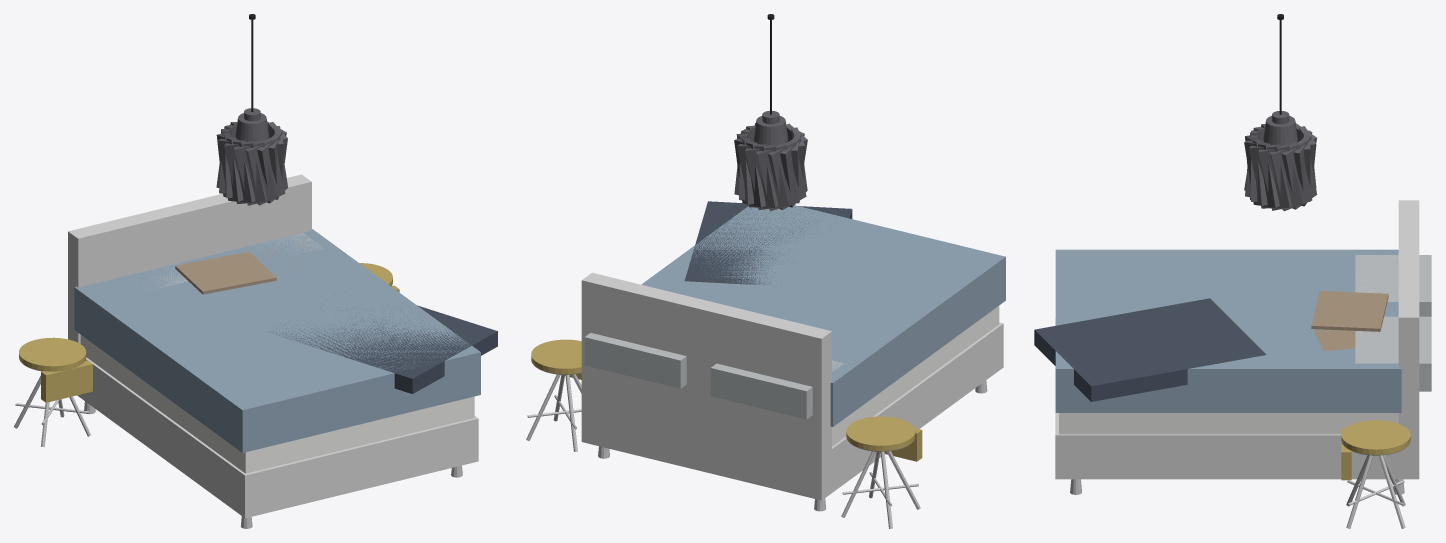
The picture shows the model from 3 angles, left to right: view 1: azimuth 30°, elevation 25°; view 2: azimuth 150°, elevation 25°; view 3: azimuth 270°, elevation 25°; orthographic projection. The views are drawn at different scales.
Parts seen in each view (by area): view 1: comforter, bed_frame, bed_headboard, mattress, blanket_dark, pillow_brown_1, nightstand_L_top, nightstand_L_drawer, lamp_blade_10, lamp_shade_cap, lamp_blade_11, lamp_blade_12 (+1 smaller); view 2: comforter, bed_headboard, bed_frame, blanket_dark, pillow_gray_L, pillow_gray_R, mattress, nightstand_L_top, nightstand_R_top, lamp_blade_5, lamp_blade_6, lamp_shade_cap (+3 smaller); view 3: comforter, bed_frame, blanket_dark, mattress, bed_headboard, pillow_brown_1, pillow_gray_R, pillow_gray_L, nightstand_R_top, lamp_blade_15, lamp_blade_0, lamp_blade_1 (+4 smaller).
Boxes of the visible parts, x1,y1,x2,y2 form: comforter: (74,229,480,452); bed_frame: (77,357,478,518); bed_headboard: (68,174,311,343); mattress: (80,335,474,473); blanket_dark: (270,293,497,393); pillow_brown_1: (175,251,276,294); nightstand_L_top: (19,337,86,371); nightstand_L_drawer: (41,360,92,402); lamp_blade_10: (224,141,266,204); lamp_shade_cap: (235,113,268,141); lamp_blade_11: (234,140,277,205); lamp_blade_12: (245,137,285,205); comforter: (641,205,1005,426); bed_headboard: (581,272,831,456); bed_frame: (581,322,1003,500); blanket_dark: (684,201,852,284); pillow_gray_L: (710,360,843,419); pillow_gray_R: (584,333,686,388); mattress: (832,306,999,446); nightstand_L_top: (846,416,915,451); nightstand_R_top: (531,339,581,374); lamp_blade_5: (745,144,789,209); lamp_blade_6: (756,143,799,211); lamp_shade_cap: (753,116,788,145); comforter: (1055,249,1401,412); bed_frame: (1055,318,1419,479); blanket_dark: (1034,298,1266,401); mattress: (1059,413,1398,434); bed_headboard: (1398,200,1419,435); pillow_brown_1: (1311,291,1388,331); pillow_gray_R: (1355,316,1431,391); pillow_gray_L: (1355,255,1431,316); nightstand_R_top: (1341,420,1410,454); lamp_blade_15: (1249,144,1291,208); lamp_blade_0: (1258,144,1302,210); lamp_blade_1: (1269,142,1312,211).
Bounding box in the file's own units: 2.5 × 2.71 × 2.29.
